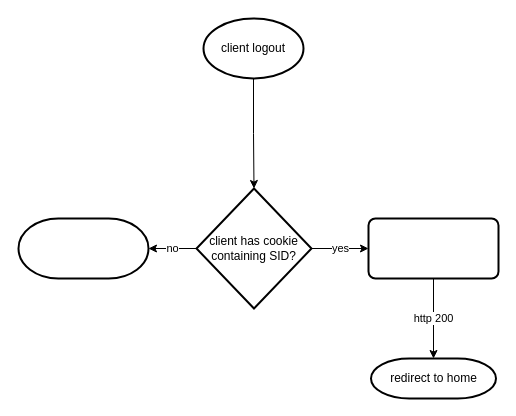
The diagram is 516 pixels wide and 416 high, and some of its shapes have lost their labels. The centre of each missing label's shape, as x and y in pixels:
"HTTP 401" belongs at point (83, 248).
"remove session from db" belongs at point (433, 248).
